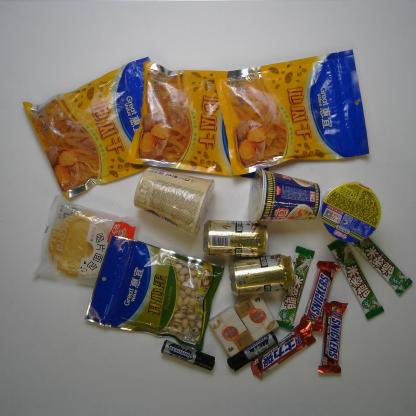Alcohol: (229, 252, 294, 297), (202, 216, 270, 258)
Chocolate: (327, 238, 384, 321), (351, 235, 413, 298), (251, 324, 316, 380), (276, 245, 314, 331), (302, 258, 339, 334), (318, 299, 349, 375)
Dessert: (35, 194, 141, 288)
Dried Fruit: (22, 55, 162, 199), (214, 48, 372, 175), (128, 60, 272, 180), (85, 235, 226, 354)
Instant Noodles: (134, 166, 215, 236), (249, 168, 325, 224), (320, 182, 381, 241)
Stationery: (227, 332, 279, 372), (158, 338, 218, 369)
Tissue: (208, 307, 254, 359), (234, 296, 278, 342)
